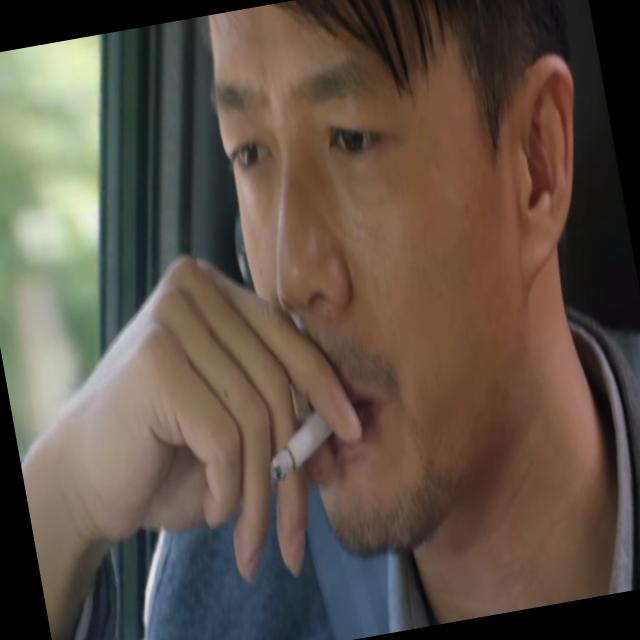cigarette: (257, 405, 345, 512)
